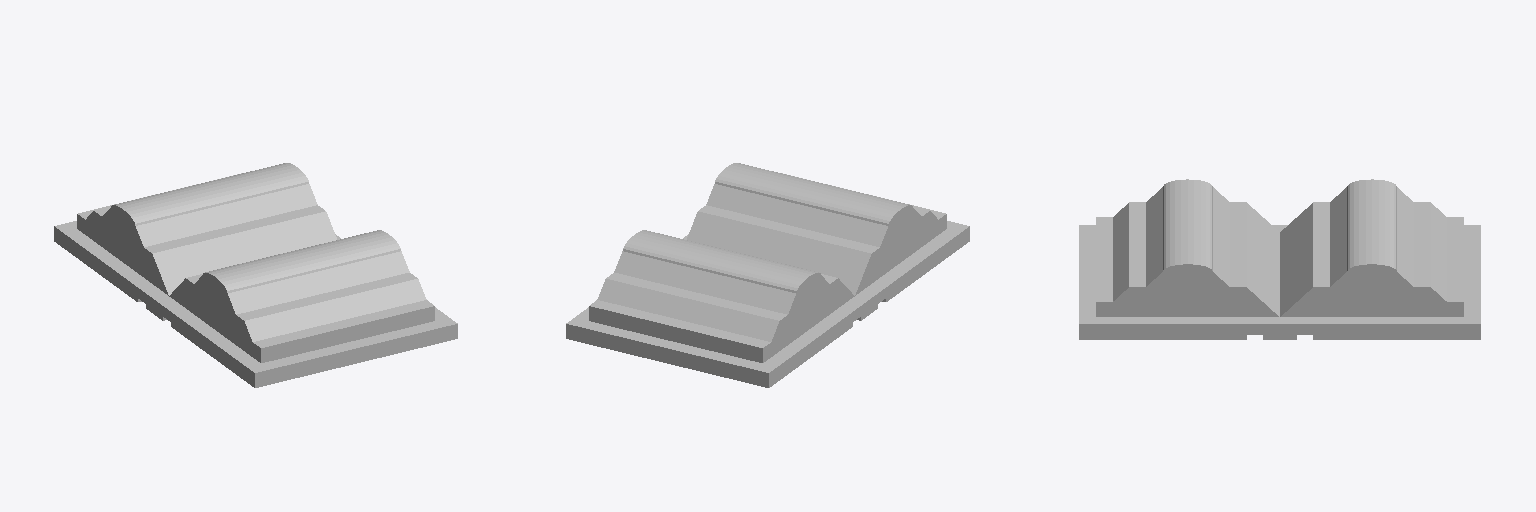
The model's file is OpenBook.obj.
3 renders of one model, left to right at view 1: azimuth 30°, elevation 25°; view 2: azimuth 150°, elevation 25°; view 3: azimuth 270°, elevation 25°, orthographic.
Visible parts, largest first — view 1: block, wedge, cylinder_half; view 2: block, wedge, cylinder_half; view 3: block, wedge, cylinder_half.
Part boxes in pixels (x1,y1,x2,y2): block: (54,173,457,387); wedge: (86,184,426,341); cylinder_half: (111,163,400,292); block: (566,173,969,387); wedge: (597,184,937,341); cylinder_half: (623,163,912,292); block: (1079,202,1480,339); wedge: (1113,187,1446,316); cylinder_half: (1163,179,1396,271).
Size of the model in its own units: 0.28 by 0.09 by 0.48.